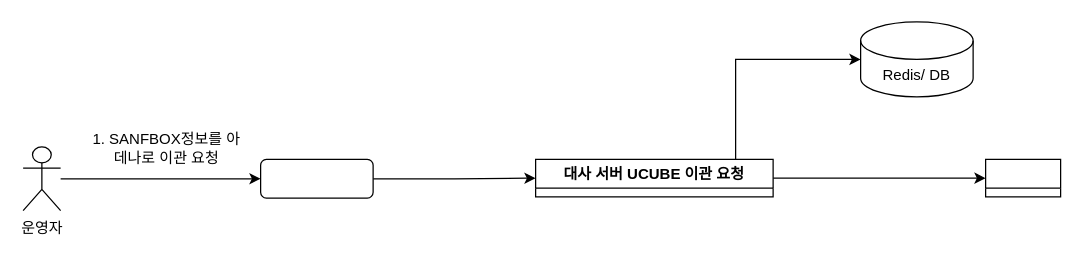
The diagram is 1083 pixels wide and 259 high, and some of its shapes have lost their labels. The shapes that lost their labels are listed below. From the top down, each one's centre as x and y in pixels, then its label:
the point at 316,178: 화면
the point at 1022,177: S3
